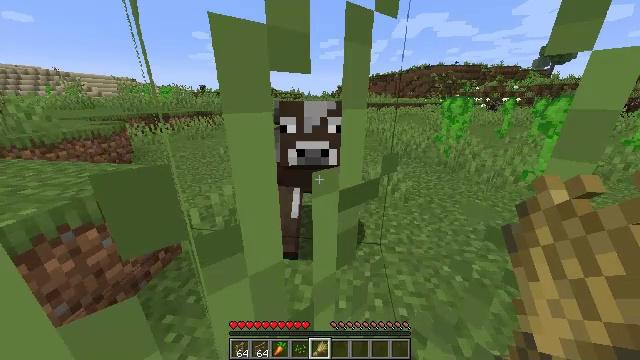cow: (274, 99, 358, 258)
